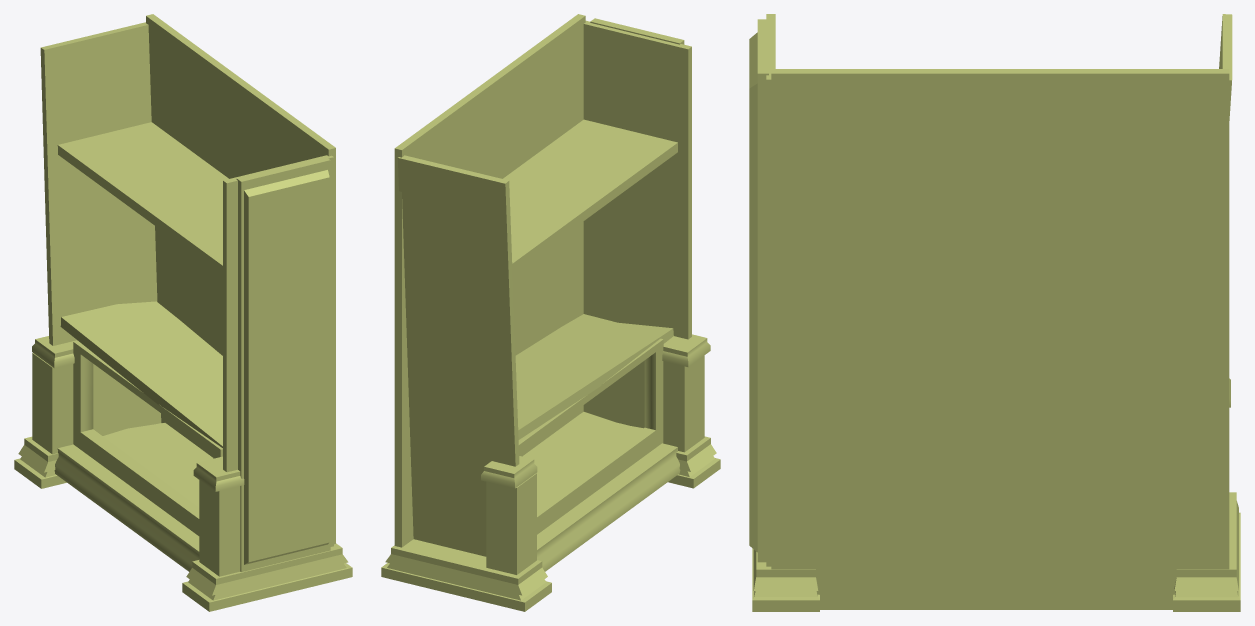
The model's file is Cupboard_03_Lod0.fbx.
The picture shows the model from 3 angles, left to right: view 1: azimuth 30°, elevation 25°; view 2: azimuth 150°, elevation 25°; view 3: azimuth 270°, elevation 25°; orthographic projection. The views are drawn at different scales.
Parts seen in each view (by area): view 1: Cupboard_03_Lod0; view 2: Cupboard_03_Lod0; view 3: Cupboard_03_Lod0.
Part boxes in pixels (<box>): Cupboard_03_Lod0: <box>14,14,352,611</box>; Cupboard_03_Lod0: <box>381,14,720,611</box>; Cupboard_03_Lod0: <box>749,14,1240,611</box>.
Size of the model in its own units: 66.1 by 189 by 157.
